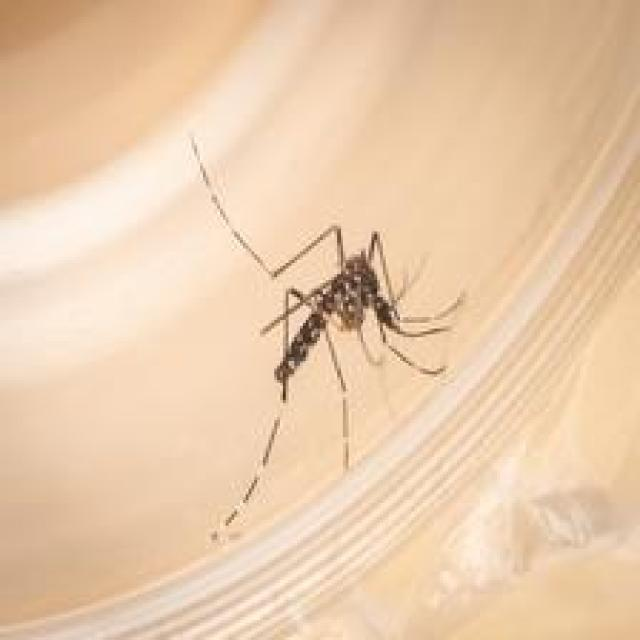Aedes albopictus: (187, 131, 467, 543)
